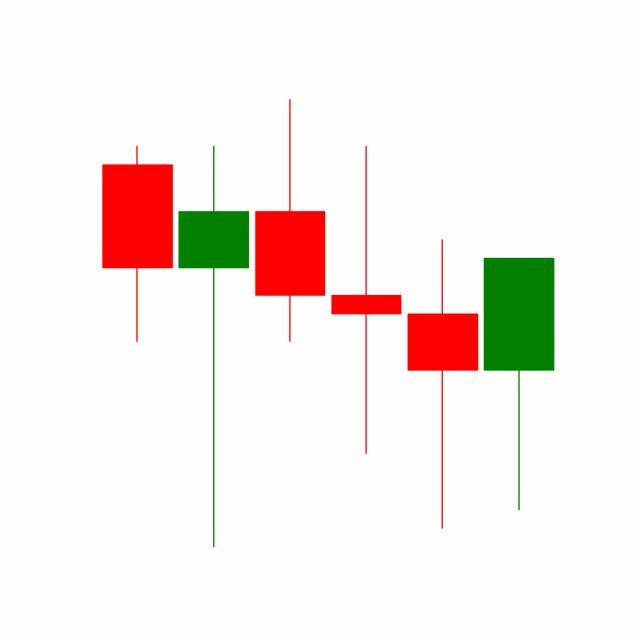Spinning Top: (404, 236, 482, 532)
